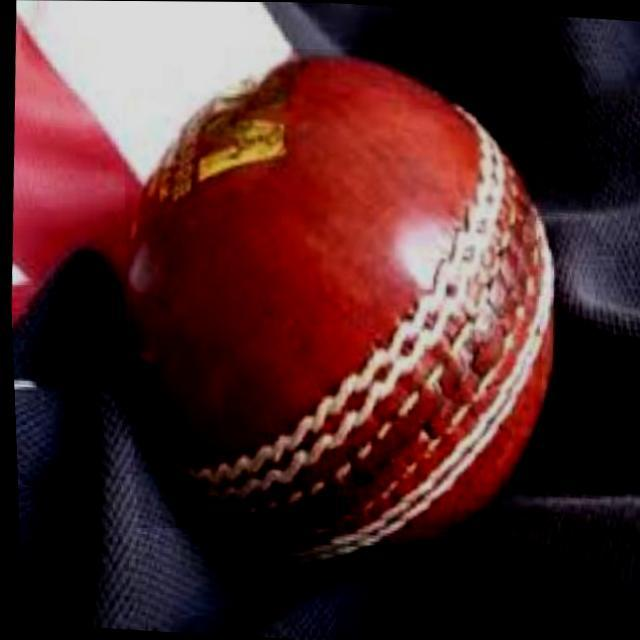Red_Ball: (102, 60, 563, 561)
